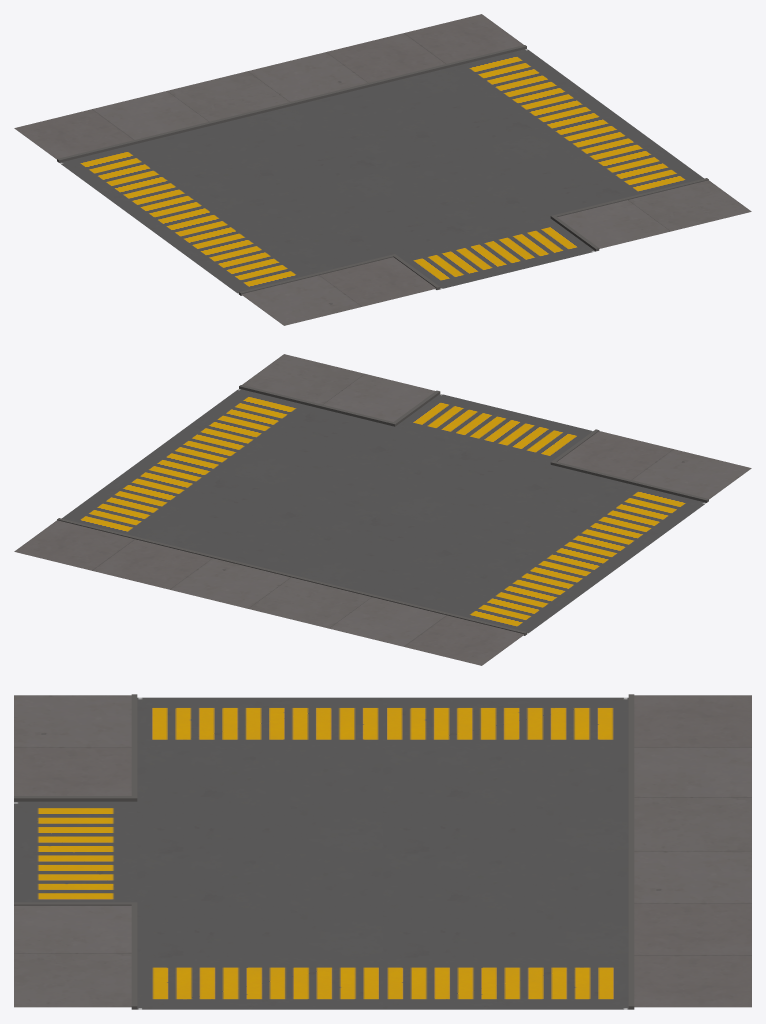
File: SM_Floor_Road_18.fbx
3 views of the same model, one above another, from view 1: azimuth 30°, elevation 25°; view 2: azimuth 150°, elevation 25°; view 3: azimuth 270°, elevation 25° (orthographic). The views are drawn at different scales.
Parts seen in each view (by area): view 1: SM_Floor_Road_18; view 2: SM_Floor_Road_18; view 3: SM_Floor_Road_18.
Part boxes in pixels (x1=…): SM_Floor_Road_18: x1=14, y1=14, x2=751, y2=325; SM_Floor_Road_18: x1=14, y1=354, x2=751, y2=665; SM_Floor_Road_18: x1=14, y1=694, x2=751, y2=1009.
Bounding box in the file's own units: 15 × 0.075 × 15.
